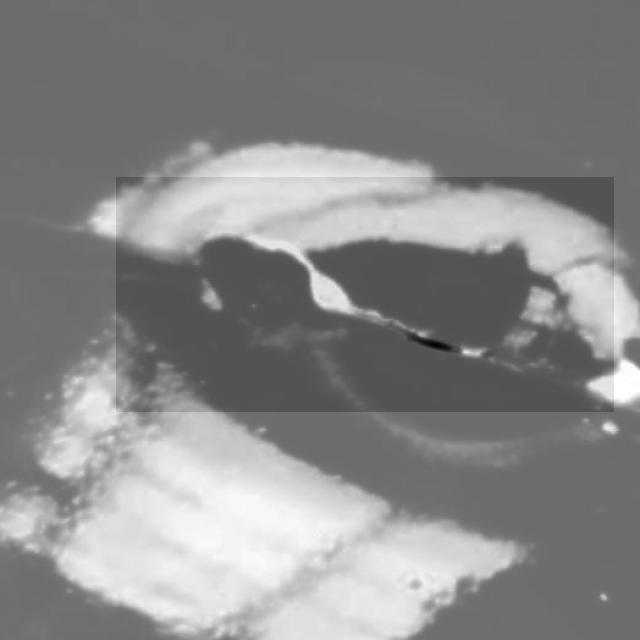crack: (117, 178, 615, 413)
